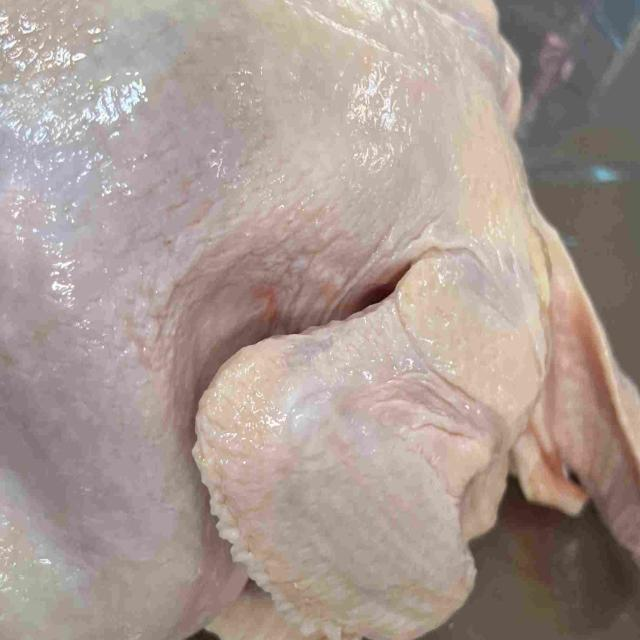leg: (0, 250, 218, 640)
neck: (515, 222, 640, 566)
wing: (196, 249, 543, 640)
